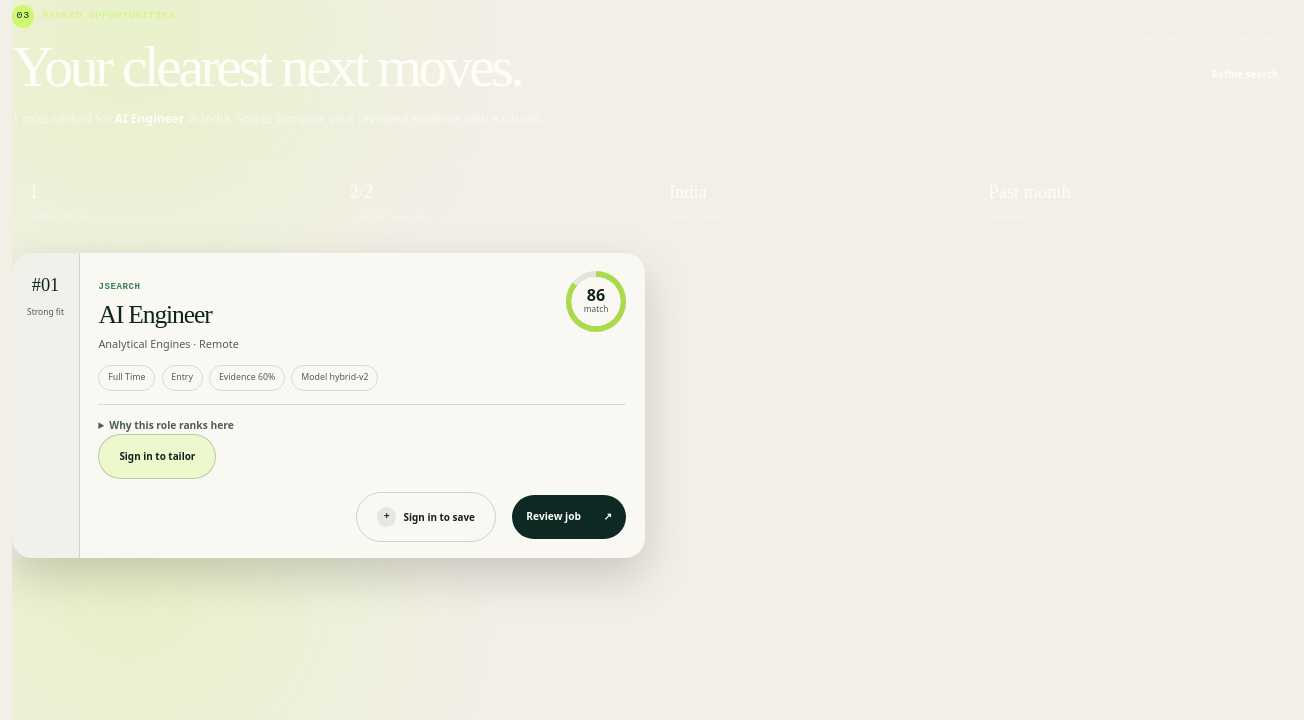
Test: RecommendationResults saved jobs › distinguishes unavailable evidence from a zero component score
Expected: the text "Evidence 60%" is shown, [209,365,285,391]
Click the heading "Why this role ranks here" at point(166, 426), box [98,418,234,434]
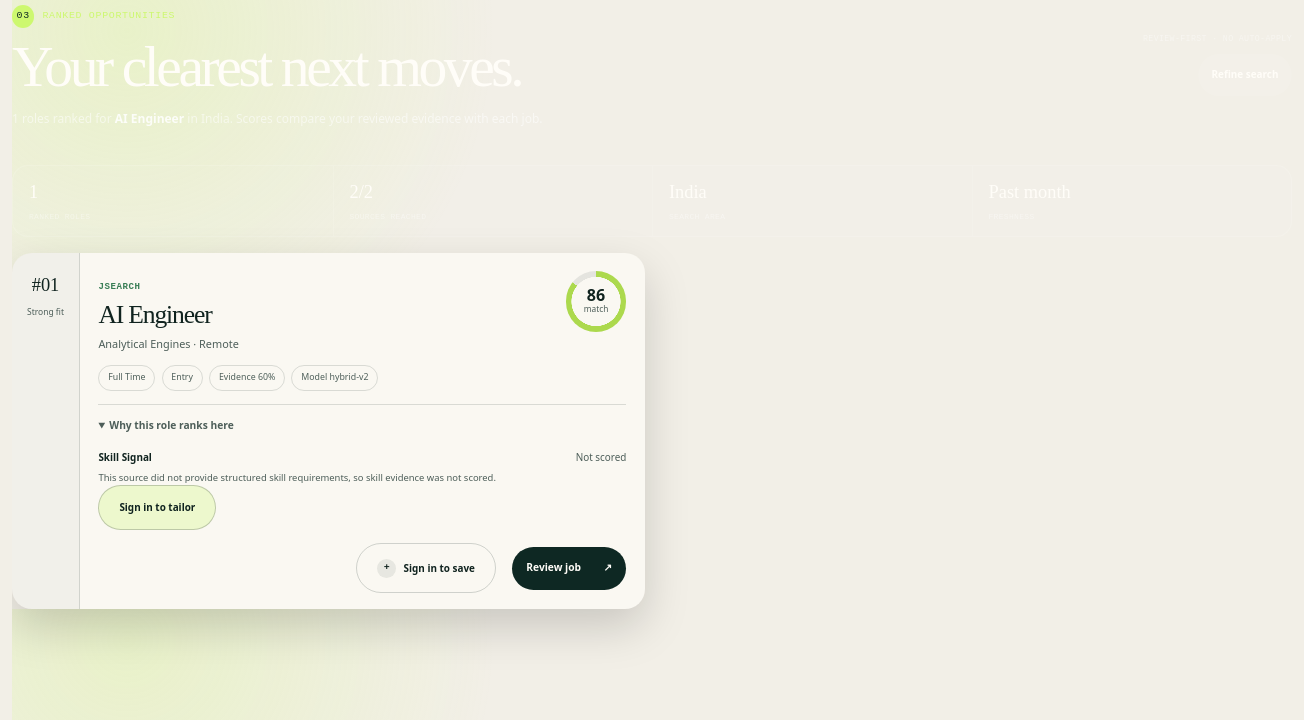
Expected: the text "Not scored" is shown, [576,450,626,464]
